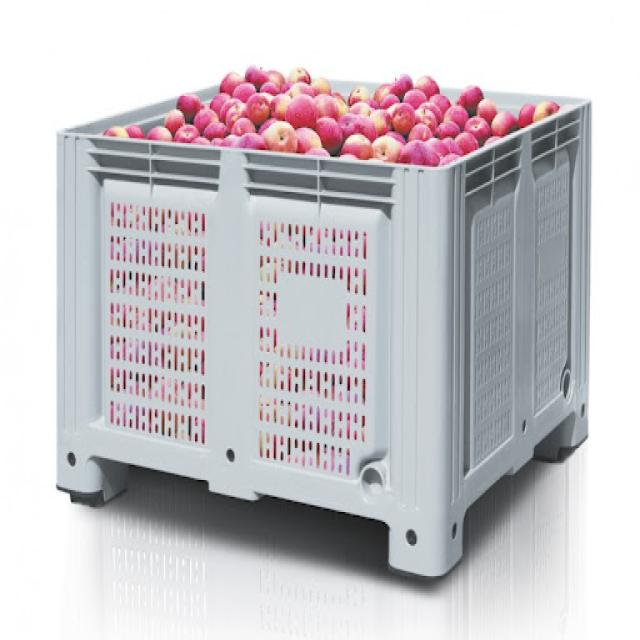basket: (56, 97, 591, 577)
